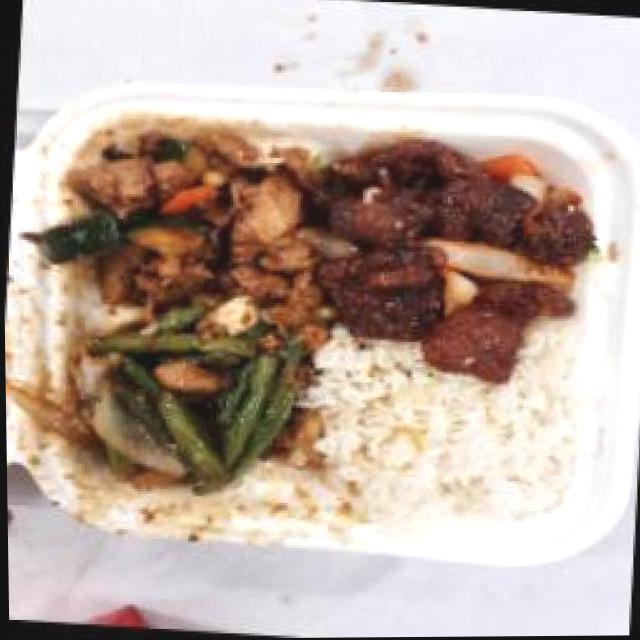Beijing Beef: (304, 122, 600, 381)
Kung Pao Chicken: (49, 106, 332, 331)
String Bean Chicken Breast: (38, 296, 314, 503)
White Steamed Rice: (307, 357, 579, 538)
